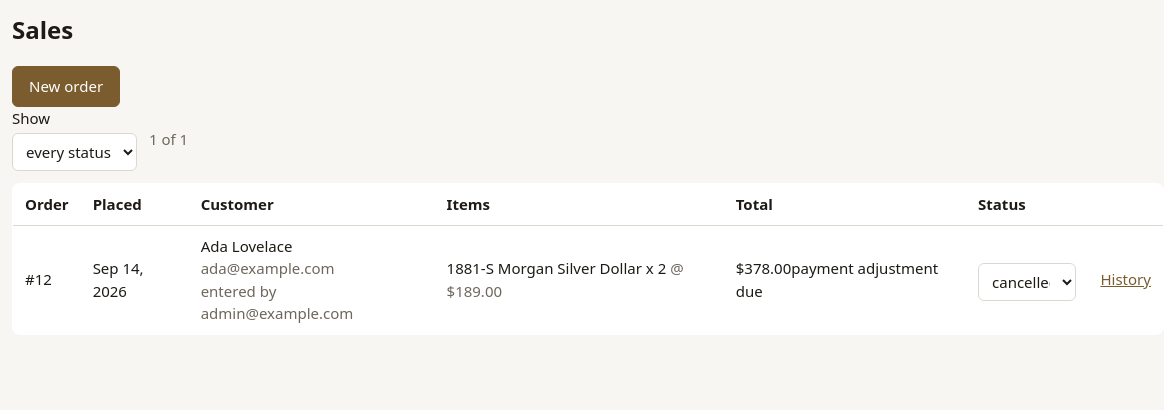
Test: owner Orders › says why a cancelled order cannot be moved on, and sends nothing
Expected: the text "Ada Lovelace" is shown, [201,236,292,256]
Select "paid" in the dropdown named "Status of order 12": (1027, 282) [978,262,1076,300]
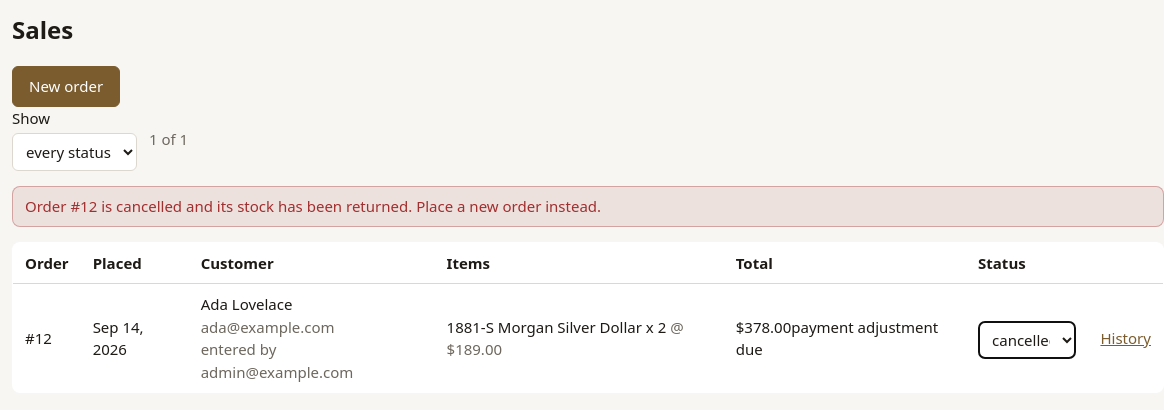
Expected: the text "cancelled and its stock has been returned" is shown, [25,196,601,216]
